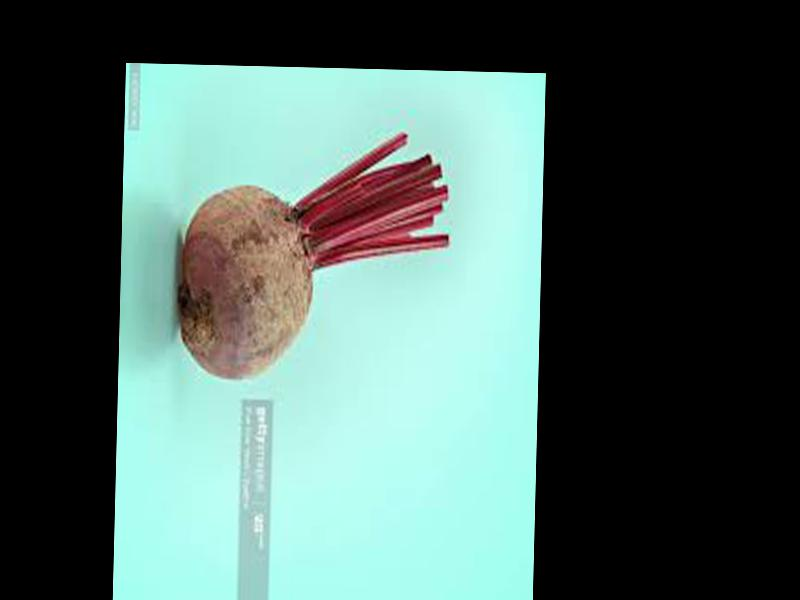Beet: (175, 129, 448, 384)
